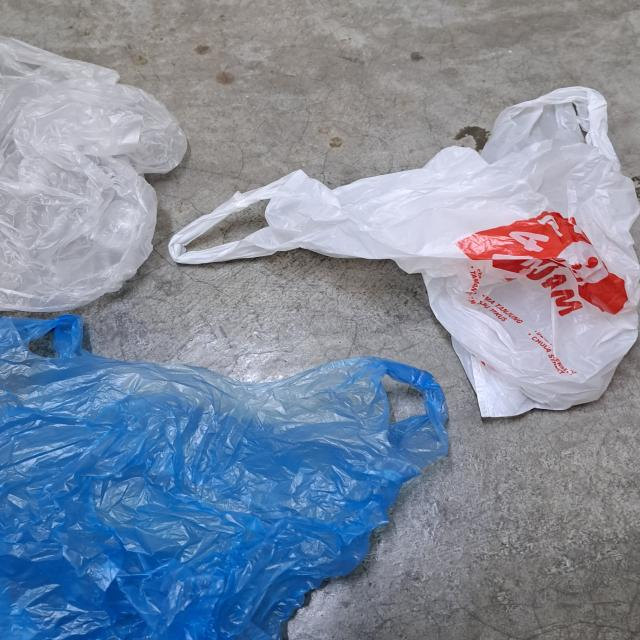plastic bag: (177, 77, 637, 422), (0, 314, 447, 638), (0, 25, 179, 322)
